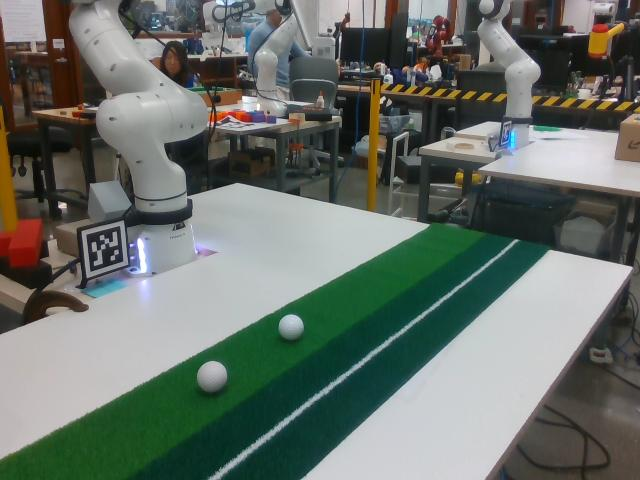golf_balls: (197, 361, 228, 392), (279, 314, 304, 340)
